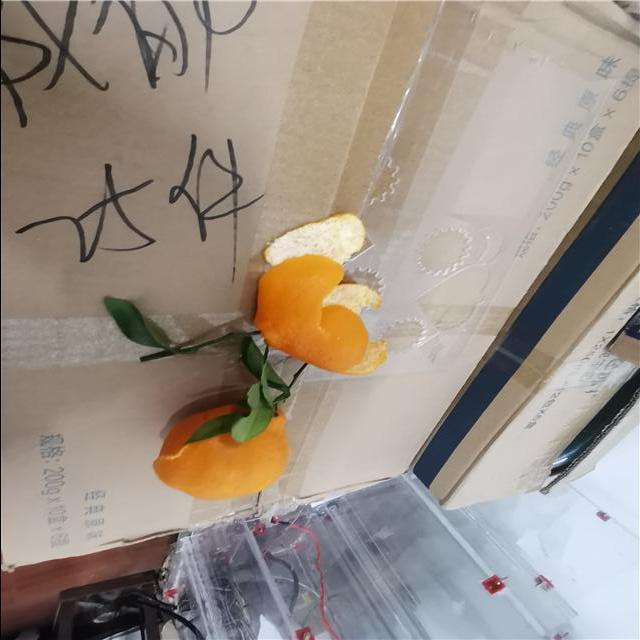orange peel: (252, 211, 390, 377), (151, 392, 293, 500)
